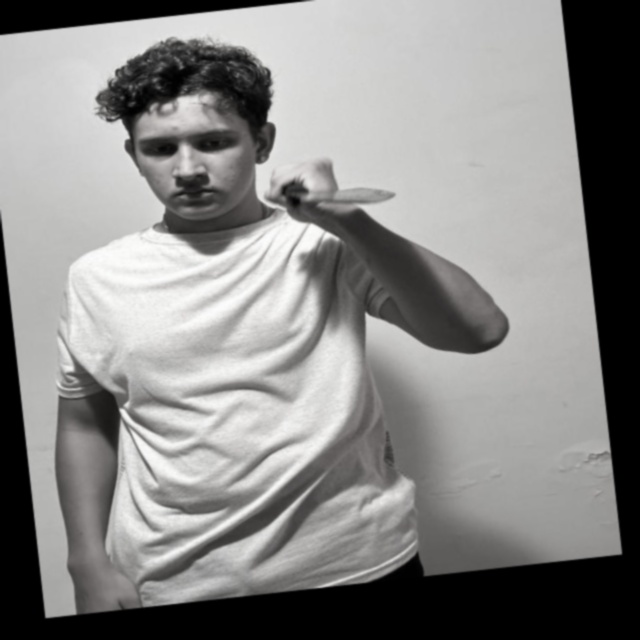Sharp-Object: (296, 182, 395, 212)
